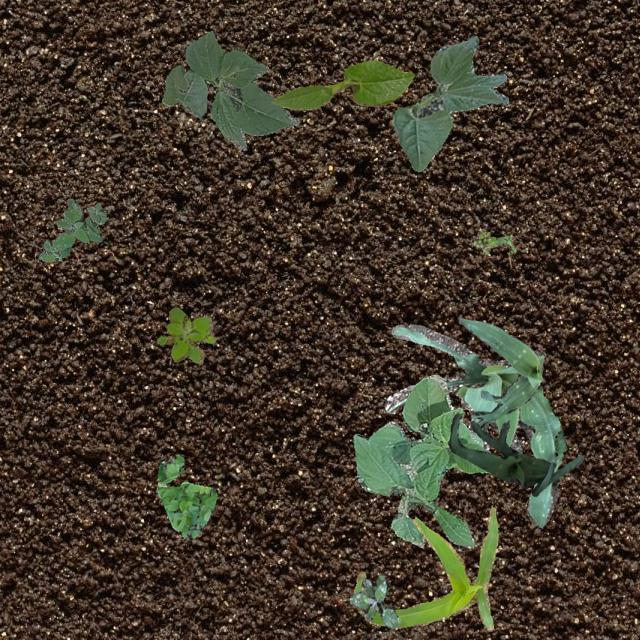crop: (384, 324, 566, 526), (352, 373, 488, 548), (353, 506, 498, 630), (162, 29, 298, 150), (392, 34, 508, 170), (448, 412, 582, 496), (458, 316, 542, 428), (270, 59, 412, 110)
weed: (156, 454, 216, 540), (38, 198, 106, 260), (157, 306, 216, 362), (348, 574, 401, 628), (472, 230, 514, 253)
